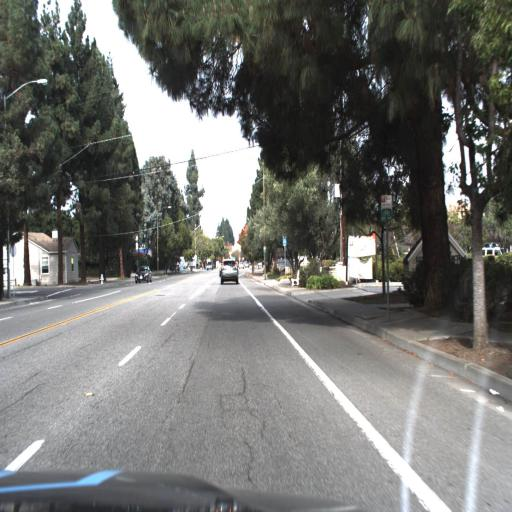car: (218, 255, 242, 286), (132, 258, 154, 286)
